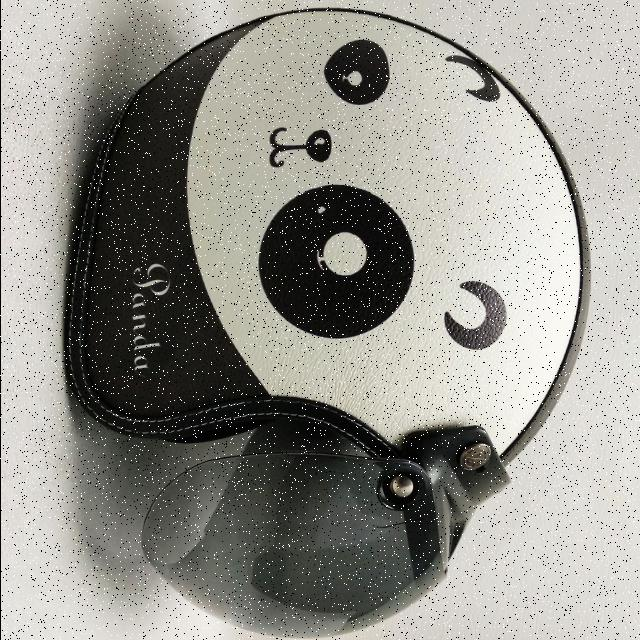Helmet: (61, 6, 589, 640)
